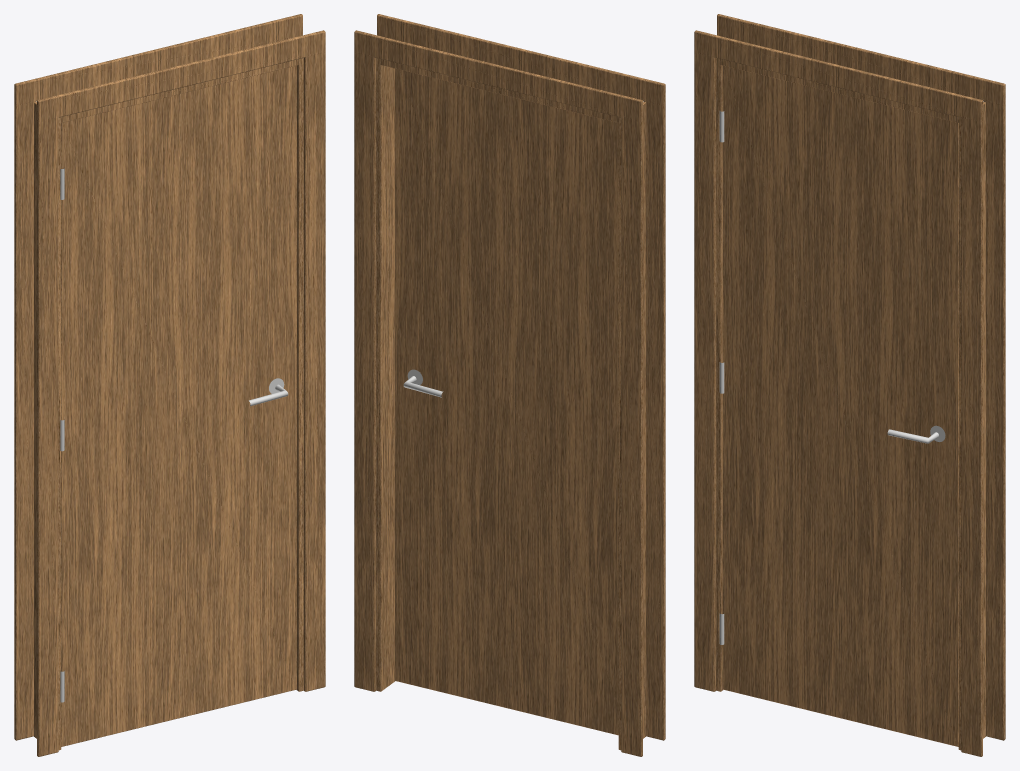
File: door_interior_80.glb
3 renders of one model, left to right at view 1: azimuth 30°, elevation 25°; view 2: azimuth 150°, elevation 25°; view 3: azimuth 330°, elevation 25°, orthographic.
Visible parts, largest first — view 1: door_leaf, tapajuntas.001, tapajuntas, tapajuntas.002, tapajuntas_sup, tapajuntas_sup.001, jamba.001, jamba, dintel; view 2: door_leaf, tapajuntas.003, tapajuntas.002, tapajuntas, jamba.001, tapajuntas_sup.001, tapajuntas_sup, jamba, dintel; view 3: door_leaf, tapajuntas, tapajuntas.001, tapajuntas.003, tapajuntas_sup, tapajuntas_sup.001, jamba.001, jamba, dintel.
Boxes of the visible parts, <box> form: door_leaf: <box>61,65,296,746</box>; tapajuntas.001: <box>303,30,325,691</box>; tapajuntas: <box>37,95,58,756</box>; tapajuntas.002: <box>14,79,36,740</box>; tapajuntas_sup: <box>37,30,325,121</box>; tapajuntas_sup.001: <box>14,14,302,105</box>; jamba.001: <box>296,58,303,691</box>; jamba: <box>34,101,61,750</box>; dintel: <box>61,59,299,122</box>; door_leaf: <box>395,68,618,735</box>; tapajuntas.003: <box>354,30,376,691</box>; tapajuntas.002: <box>621,95,642,756</box>; tapajuntas: <box>643,79,665,740</box>; jamba.001: <box>376,58,395,691</box>; tapajuntas_sup.001: <box>354,30,642,121</box>; tapajuntas_sup: <box>377,14,665,105</box>; jamba: <box>618,101,645,750</box>; dintel: <box>380,59,618,122</box>; door_leaf: <box>723,65,958,746</box>; tapajuntas: <box>694,30,716,691</box>; tapajuntas.001: <box>961,95,982,756</box>; tapajuntas.003: <box>983,79,1005,740</box>; tapajuntas_sup: <box>694,30,982,121</box>; tapajuntas_sup.001: <box>717,14,1005,105</box>; jamba.001: <box>958,101,985,750</box>; jamba: <box>716,58,723,691</box>; dintel: <box>720,59,958,122</box>.
Bounding box in the file's own units: 0.976 × 2.13 × 0.198.
Materials: 2 (1 with a texture image).
